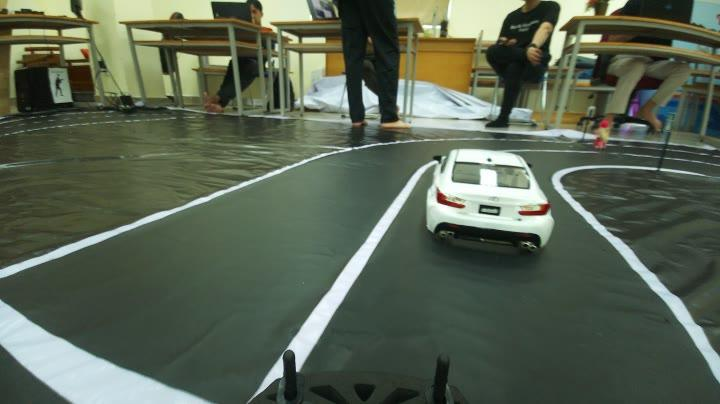car: (428, 136, 558, 261)
